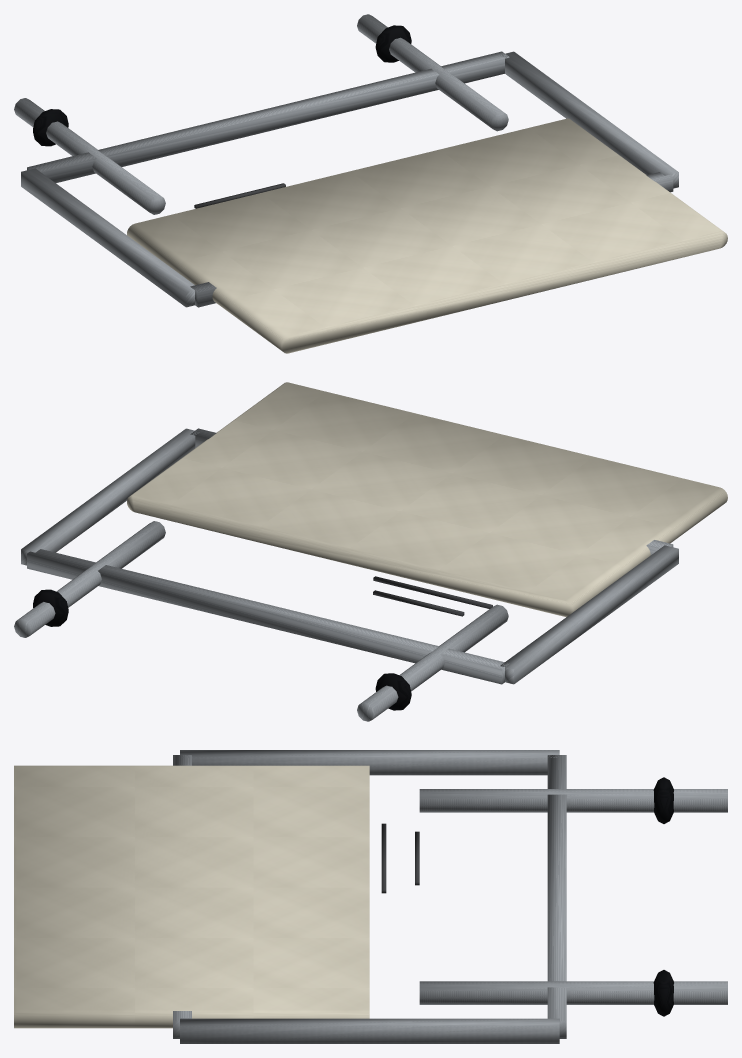
File: MEETING_WHITEBOARD_MOBILE_001.glb
3 views of the same model, one above another, from view 1: azimuth 30°, elevation 25°; view 2: azimuth 150°, elevation 25°; view 3: azimuth 270°, elevation 25° (orthographic). The views are drawn at different scales.
Parts seen in each view (by area): view 1: whiteboard_000, bottom_frame_002, side_frame_003, side_frame_004, stand_012, stand_010, top_frame_001, wheel_011, wheel_013; view 2: whiteboard_000, bottom_frame_002, side_frame_003, side_frame_004, stand_010, stand_012, wheel_011, wheel_013, doodle_line_006; view 3: whiteboard_000, side_frame_004, side_frame_003, stand_012, stand_010, bottom_frame_002, wheel_013, wheel_011, top_frame_001.
Part boxes in pixels (left/top/right/bottom): whiteboard_000: left=127, top=118, right=727, bottom=353; bottom_frame_002: left=27, top=51, right=509, bottom=182; side_frame_003: left=21, top=168, right=194, bottom=307; side_frame_004: left=502, top=51, right=678, bottom=188; stand_012: left=357, top=14, right=508, bottom=131; stand_010: left=14, top=98, right=165, bottom=214; top_frame_001: left=190, top=172, right=673, bottom=307; wheel_011: left=33, top=109, right=68, bottom=146; wheel_013: left=375, top=25, right=411, bottom=62; whiteboard_000: left=127, top=382, right=727, bottom=617; bottom_frame_002: left=27, top=549, right=509, bottom=684; side_frame_003: left=500, top=545, right=678, bottom=684; side_frame_004: left=21, top=428, right=199, bottom=565; stand_010: left=357, top=604, right=508, bottom=721; stand_012: left=14, top=521, right=165, bottom=637; wheel_011: left=375, top=673, right=411, bottom=710; wheel_013: left=33, top=589, right=68, bottom=626; doodle_line_006: left=373, top=576, right=492, bottom=608; whiteboard_000: left=14, top=765, right=369, bottom=1028; side_frame_004: left=180, top=1018, right=559, bottom=1043; side_frame_003: left=180, top=750, right=559, bottom=775; stand_012: left=419, top=981, right=727, bottom=1004; stand_010: left=419, top=789, right=727, bottom=812; bottom_frame_002: left=547, top=755, right=566, bottom=1038; wheel_013: left=653, top=970, right=673, bottom=1016; wheel_011: left=653, top=777, right=673, bottom=823; top_frame_001: left=173, top=755, right=191, bottom=1038.
Bounding box in the file's own units: 1.38 × 0.1 × 1.5.
4 materials, 4 textured.
